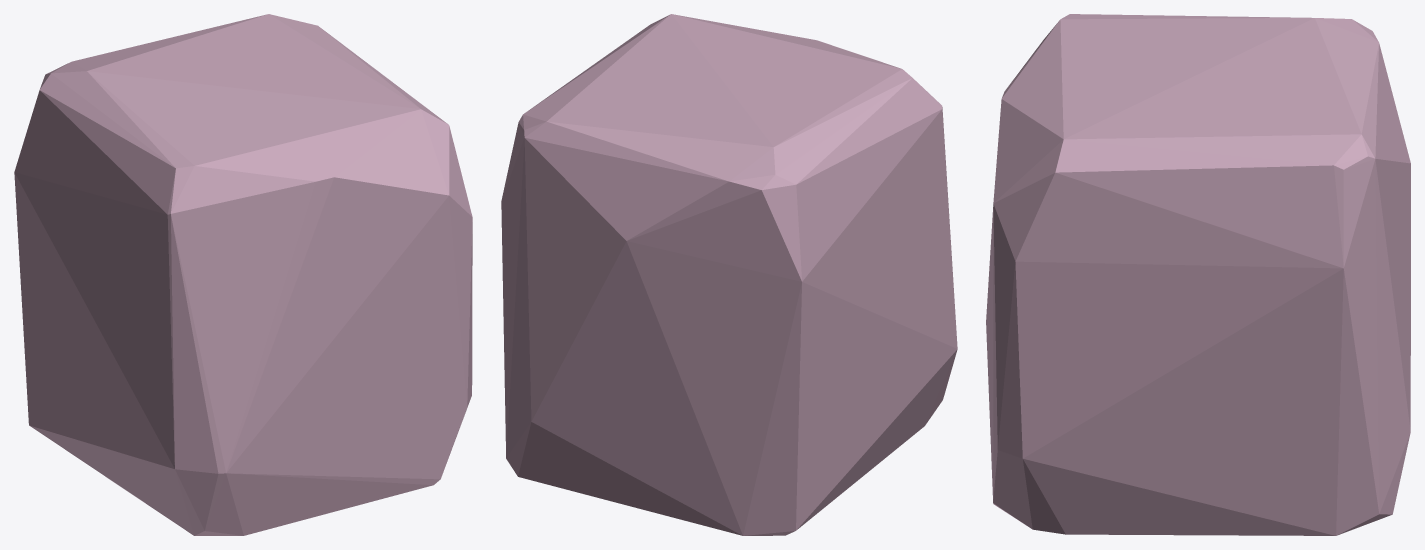
File: consumable_hydraulic_fluid_a01.glb
The picture shows the model from 3 angles, left to right: view 1: azimuth 30°, elevation 25°; view 2: azimuth 150°, elevation 25°; view 3: azimuth 270°, elevation 25°; orthographic projection. The views are drawn at different scales.
Visible parts, largest first — view 1: geometry_0; view 2: geometry_0; view 3: geometry_0.
Part boxes in pixels (x1,y1,x2,y2): geometry_0: (14,14,472,535); geometry_0: (501,14,957,535); geometry_0: (986,14,1410,535).
Bounding box in the file's own units: 0.4219 × 0.4798 × 0.468.
